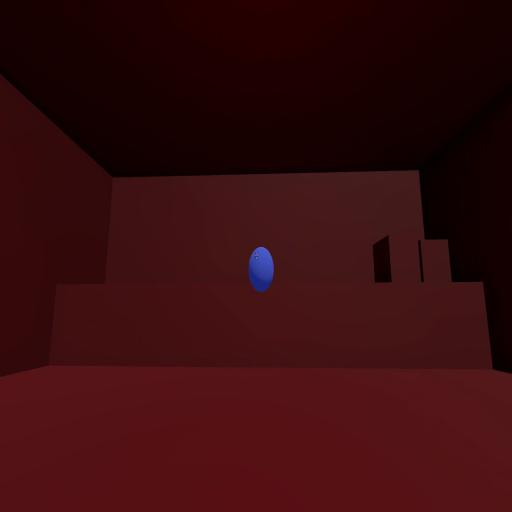Crosshair: (253, 251, 260, 261)
Target: (248, 245, 274, 293)
